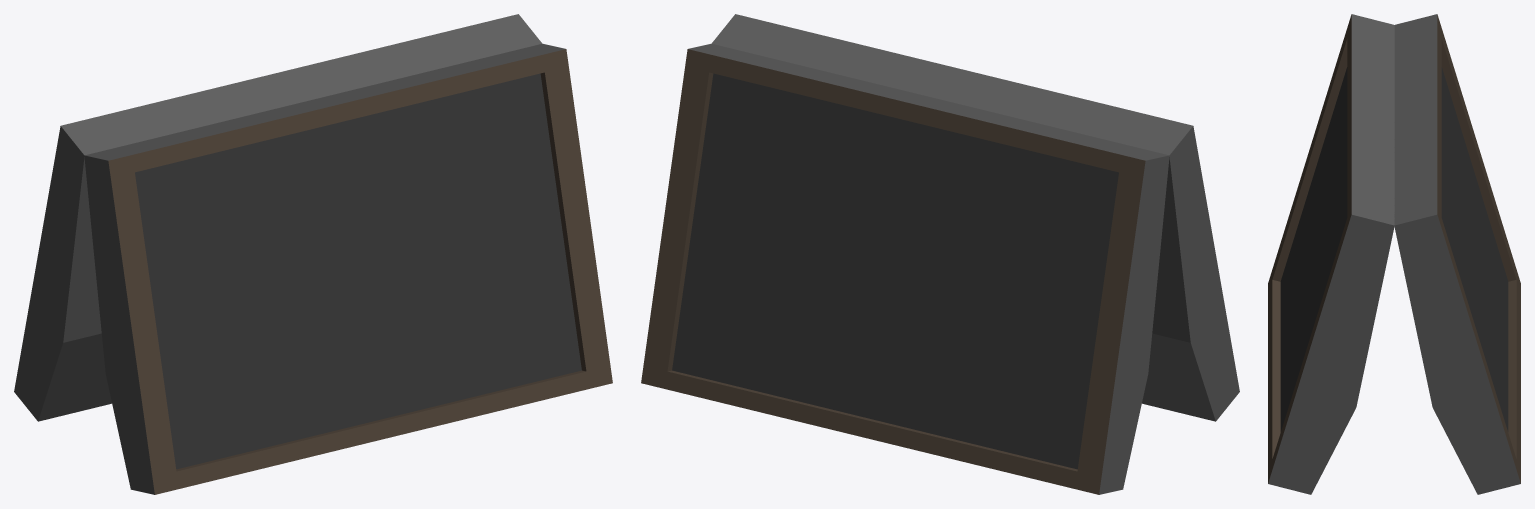
File: Monitors.fbx
3 renders of one model, left to right at view 1: azimuth 30°, elevation 25°; view 2: azimuth 150°, elevation 25°; view 3: azimuth 270°, elevation 25°, orthographic. The views are drawn at different scales.
Visible parts, largest first — view 1: monitor.001; view 2: monitor.001; view 3: monitor.001.
Part boxes in pixels (bbox=[...]): monitor.001: bbox=[14, 14, 612, 494]; monitor.001: bbox=[641, 14, 1239, 494]; monitor.001: bbox=[1268, 14, 1520, 494].
Bounding box in the file's own units: 0.5262 × 0.343 × 0.2803.
